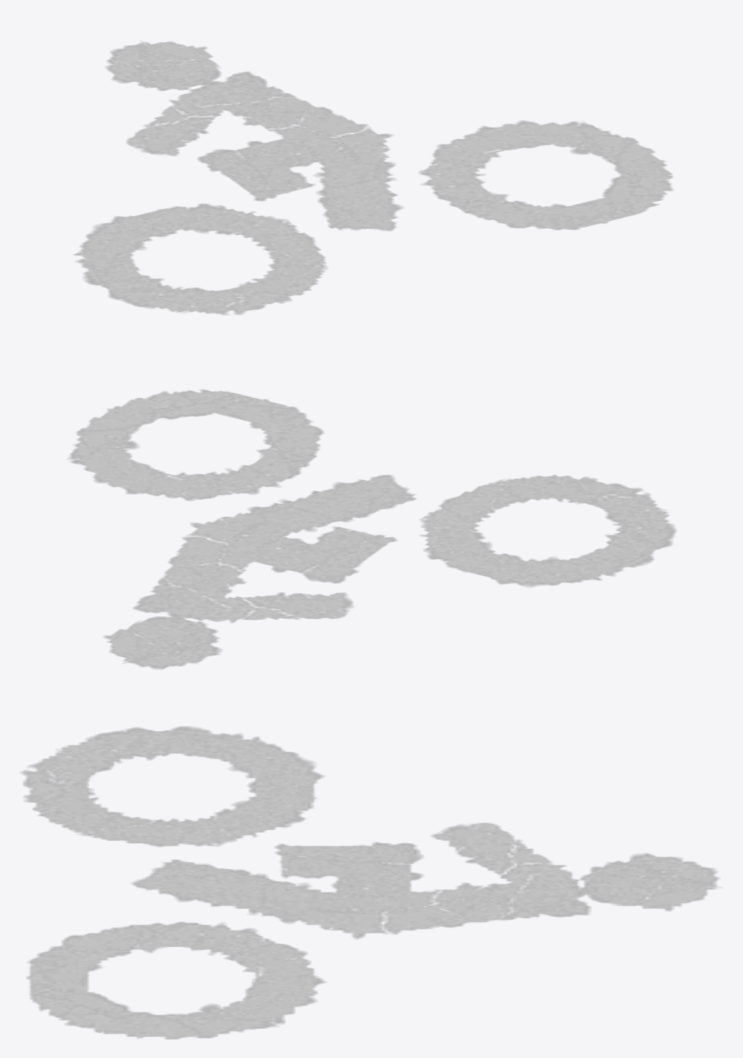
The model's file is Decal_Bikelane.glb.
3 renders of one model, top to bottom at view 1: azimuth 30°, elevation 25°; view 2: azimuth 150°, elevation 25°; view 3: azimuth 270°, elevation 25°, orthographic. The views are drawn at different scales.
Visible parts, largest first — view 1: Decal_Bikelane; view 2: Decal_Bikelane; view 3: Decal_Bikelane.
Boxes of the visible parts, bbox=[...] form: Decal_Bikelane: bbox=[74, 42, 672, 314]; Decal_Bikelane: bbox=[70, 389, 675, 668]; Decal_Bikelane: bbox=[22, 726, 718, 1039].
Size of the model in its own units: 2.97 by 0 by 2.82.
1 material, 1 textured.
